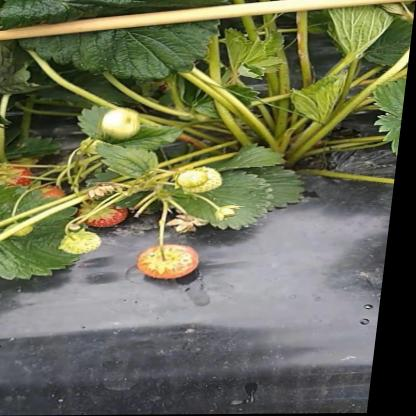ripe: (85, 204, 138, 228), (0, 158, 33, 192), (33, 187, 70, 207)
unripe: (140, 243, 215, 280), (176, 168, 230, 196), (106, 109, 146, 141), (63, 232, 110, 256), (10, 222, 42, 239)
